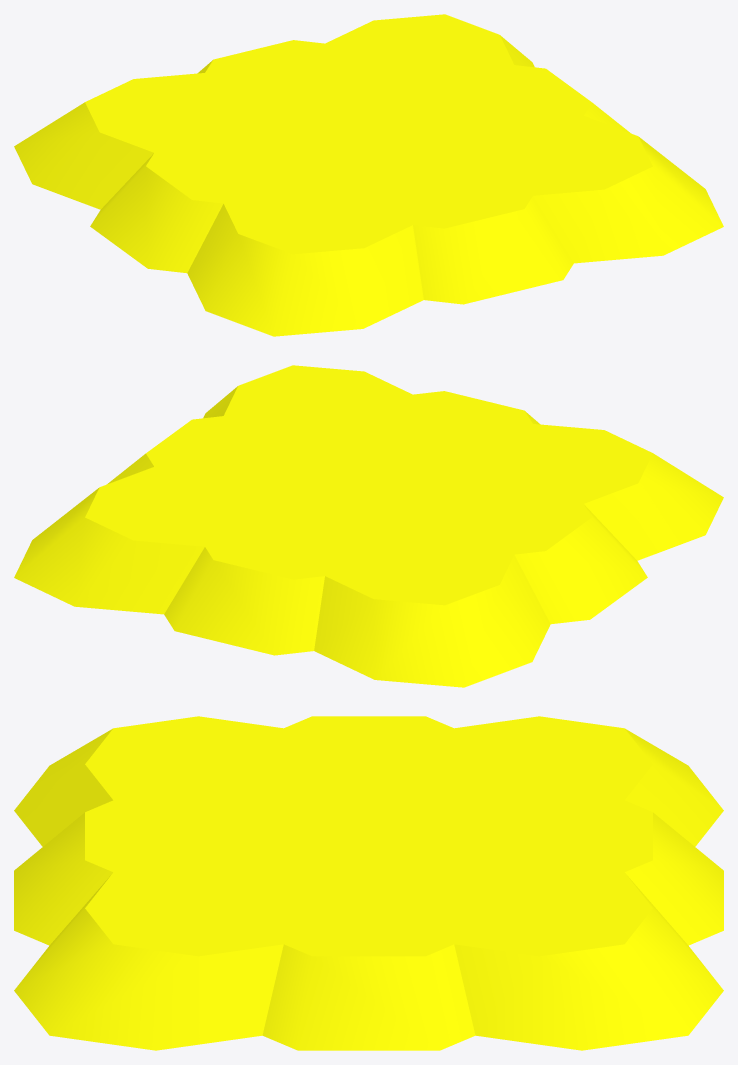
The model's file is _fbx_all_patch-dirt.glb.
The picture shows the model from 3 angles, top to bottom: view 1: azimuth 30°, elevation 25°; view 2: azimuth 150°, elevation 25°; view 3: azimuth 270°, elevation 25°; orthographic projection. The views are drawn at different scales.
Visible parts, largest first — view 1: patch-dirt; view 2: patch-dirt; view 3: patch-dirt.
Boxes of the visible parts, x1,y1,x2,y2 form: patch-dirt: [14, 14, 723, 336]; patch-dirt: [14, 365, 723, 687]; patch-dirt: [14, 716, 723, 1050].
Size of the model in its own units: 1 by 0.1 by 1.
Materials: 1 (1 with a texture image).
